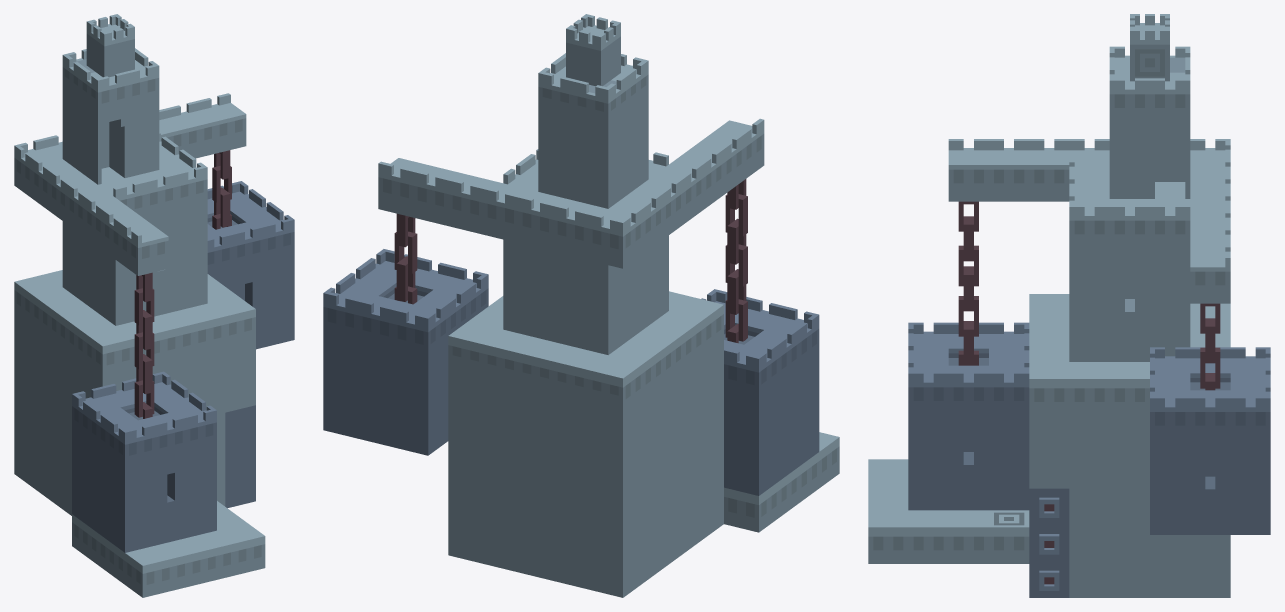
The model's file is ownHall.obj.
3 views of the same model, side by side, from view 1: azimuth 30°, elevation 25°; view 2: azimuth 150°, elevation 25°; view 3: azimuth 270°, elevation 25° (orthographic). The views are drawn at different scales.
Size of the model in its own units: 7.2 by 11.5 by 8.
1 material, 1 textured.
